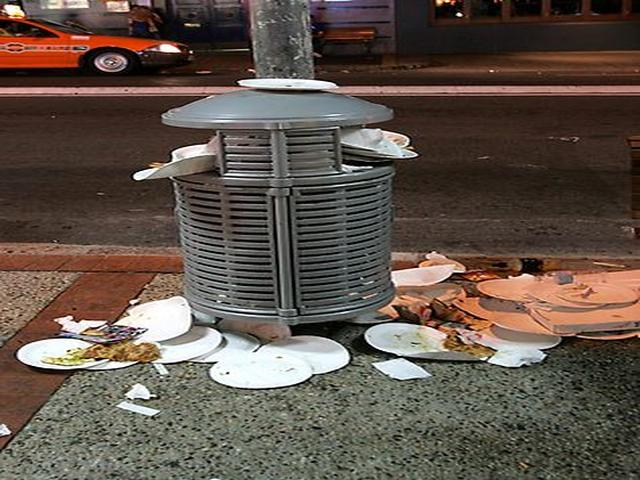garbage: (407, 267, 569, 350), (62, 315, 245, 369)
